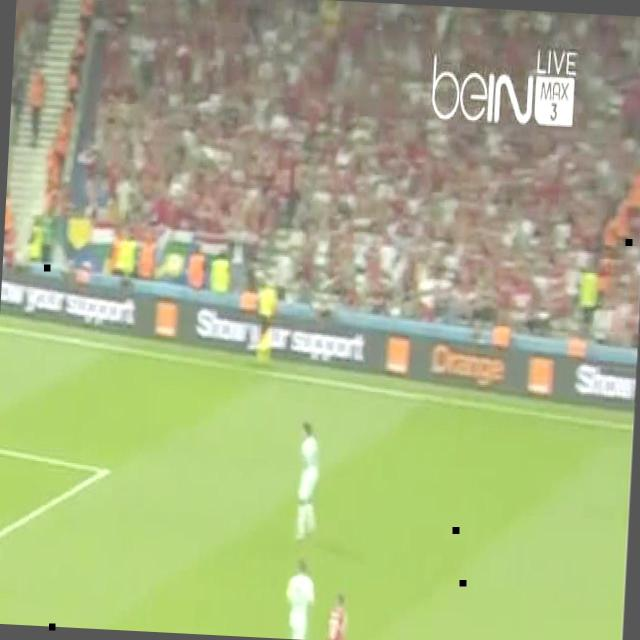player-white: (292, 420, 322, 539), (282, 557, 315, 640), (312, 584, 358, 640), (253, 270, 277, 374)
